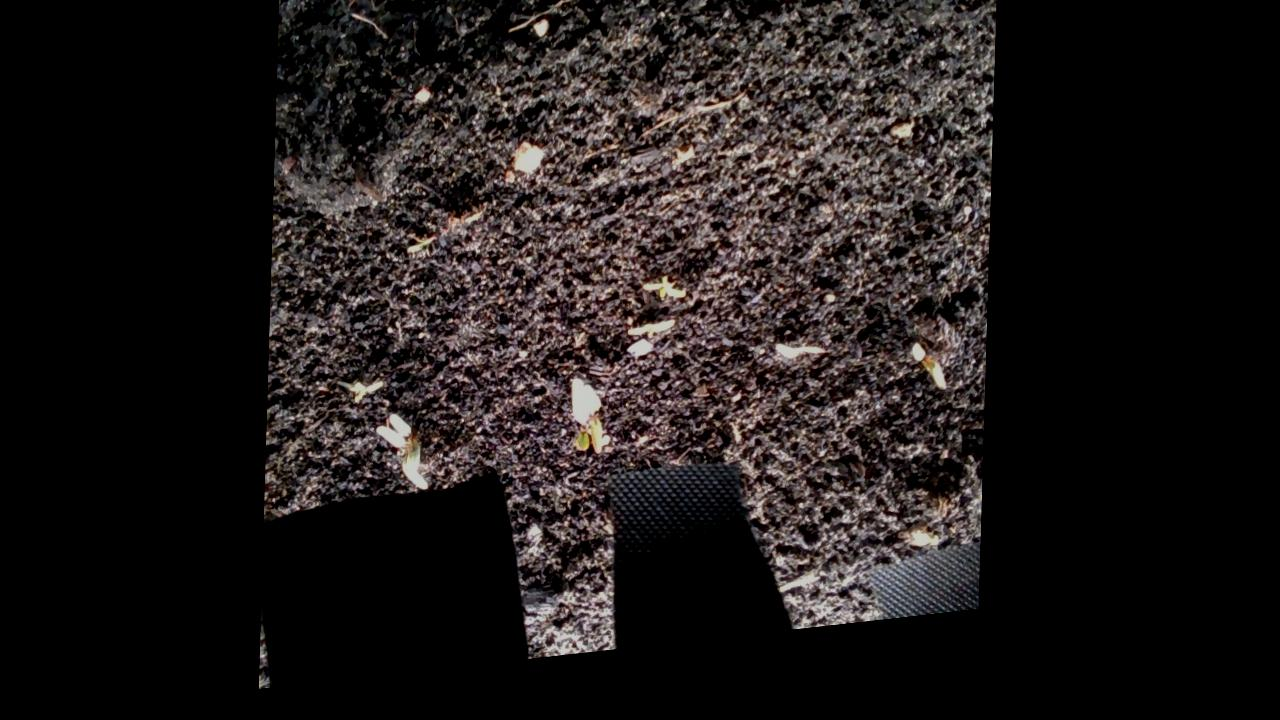weed: (773, 353, 834, 387)
